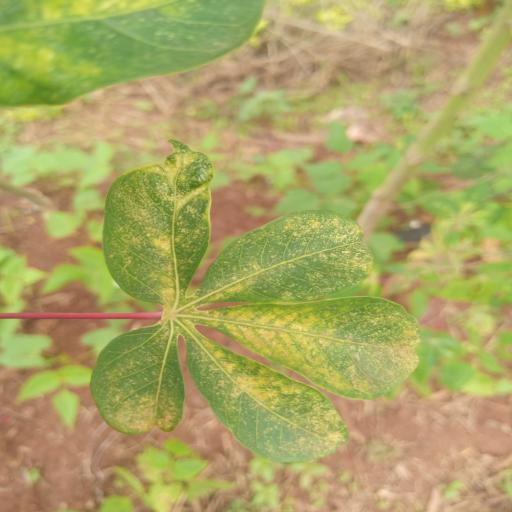Cassava_Mosaic: (85, 136, 431, 471)
